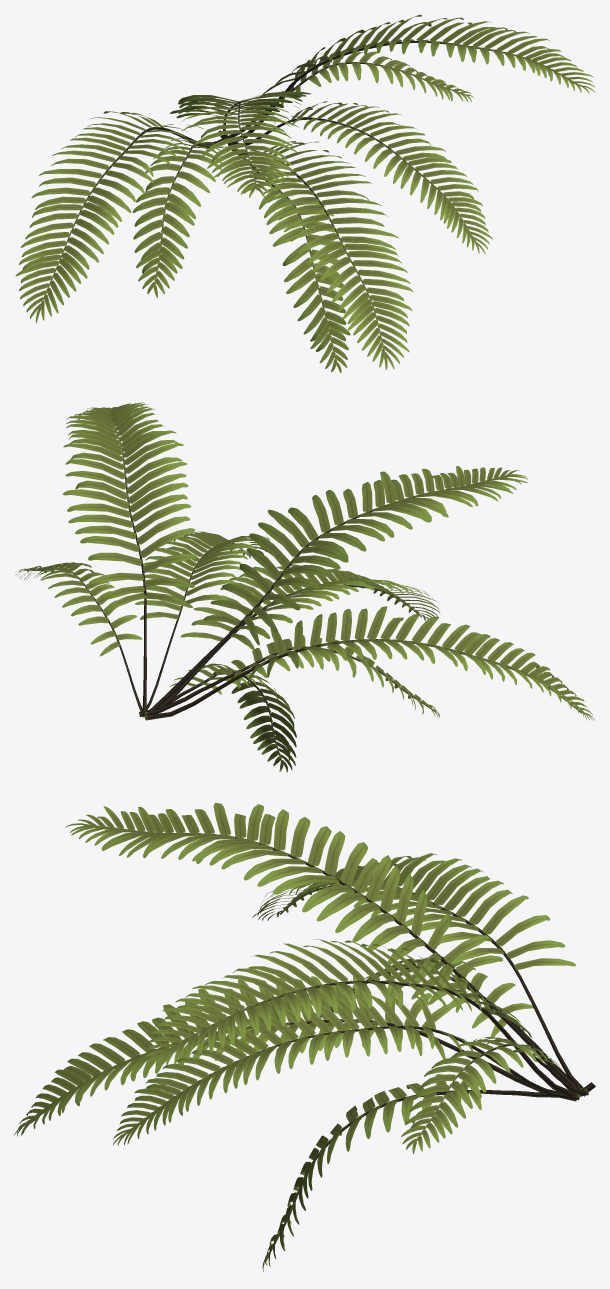
The picture shows the model from 3 angles, top to bottom: view 1: azimuth 30°, elevation 25°; view 2: azimuth 150°, elevation 25°; view 3: azimuth 270°, elevation 25°; orthographic projection. The views are drawn at different scales.
Visible parts, largest first — view 1: MH_Fern01_05.Shape; view 2: MH_Fern01_05.Shape; view 3: MH_Fern01_05.Shape.
Boxes of the visible parts, x1,y1,x2,y2 form: MH_Fern01_05.Shape: (15,14,595,373); MH_Fern01_05.Shape: (15,402,594,772); MH_Fern01_05.Shape: (14,802,595,1271).
Size of the model in its own units: 0.7459 by 0.4044 by 0.5493.
Materials: 2 (2 with a texture image).
